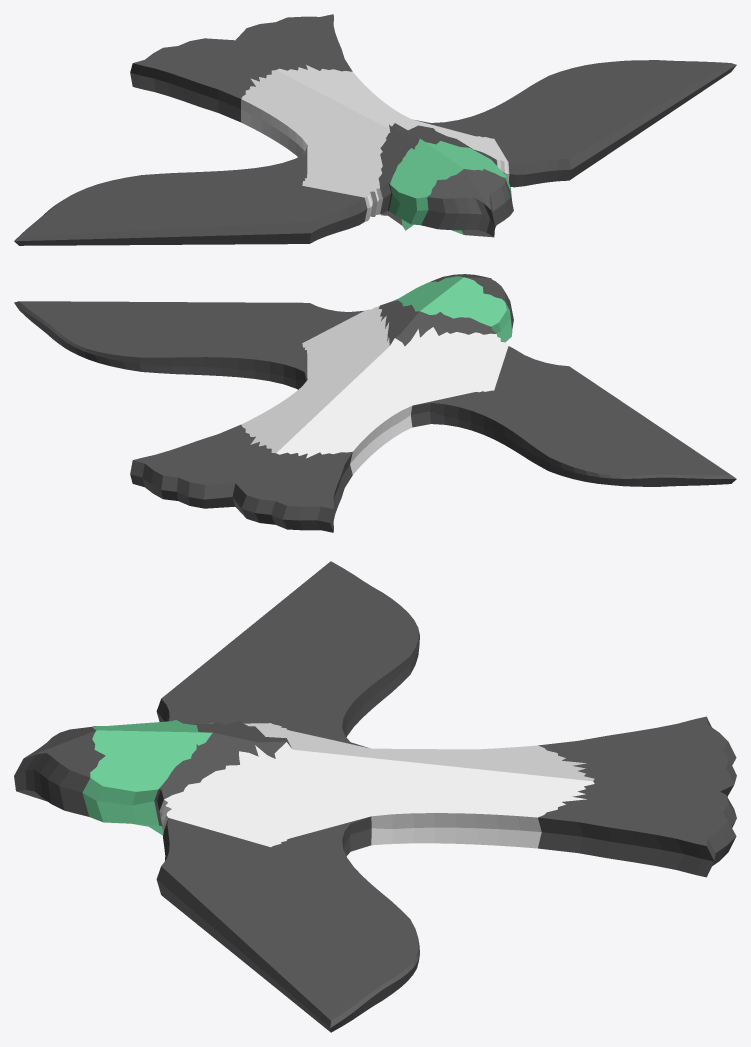
File: Bird.glb
3 renders of one model, top to bottom at view 1: azimuth 30°, elevation 25°; view 2: azimuth 150°, elevation 25°; view 3: azimuth 270°, elevation 25°, orthographic. The views are drawn at different scales.
Visible parts, largest first — view 1: Plane; view 2: Plane; view 3: Plane.
Part boxes in pixels (x1=…): Plane: x1=14, y1=14, x2=736, y2=245; Plane: x1=14, y1=274, x2=736, y2=532; Plane: x1=14, y1=561, x2=736, y2=1032.
Bounding box in the file's own units: 4.99 × 0.5542 × 3.27.
